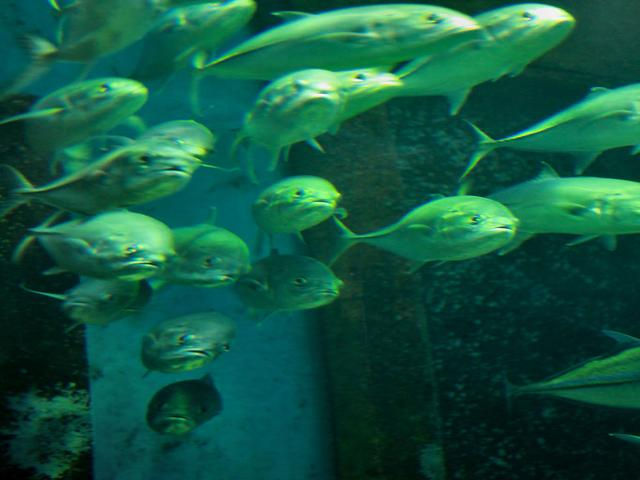fish: (334, 174, 527, 286), (264, 235, 352, 338)
